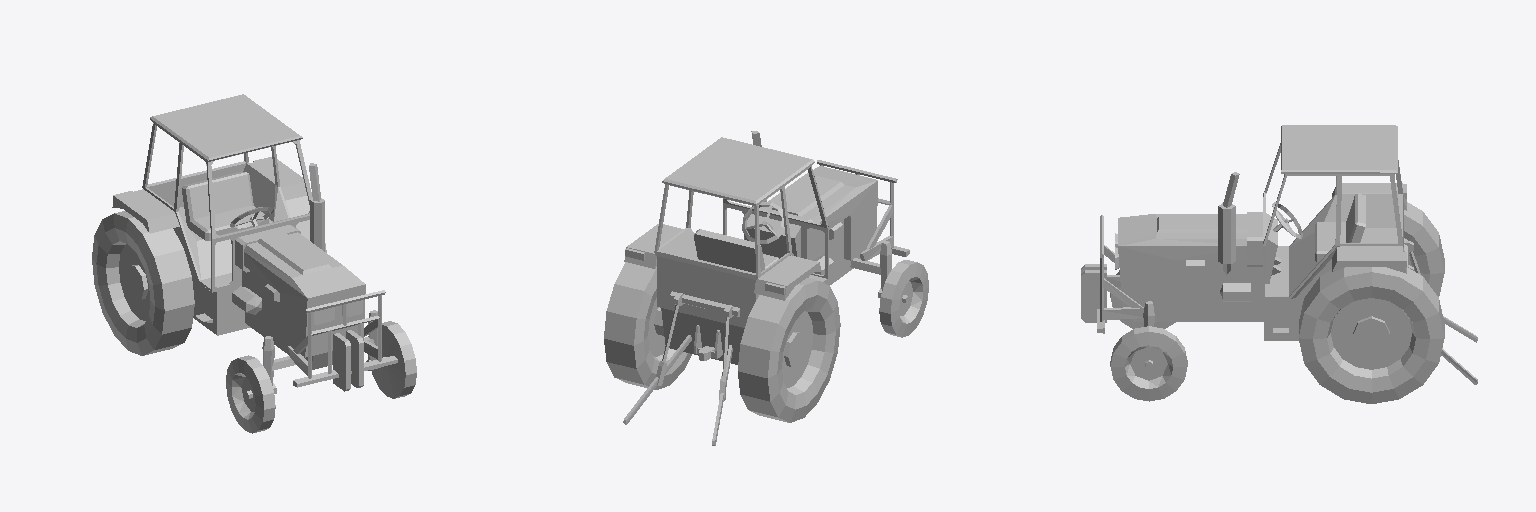
Rendered from Tractor.obj.
3 renders of one model, left to right at view 1: azimuth 30°, elevation 25°; view 2: azimuth 150°, elevation 25°; view 3: azimuth 270°, elevation 25°, orthographic.
Parts seen in each view (by area): view 1: tractor; view 2: tractor; view 3: tractor.
Part boxes in pixels (x1,y1,x2,y2): tractor: (92, 94, 416, 433); tractor: (604, 131, 928, 445); tractor: (1081, 125, 1477, 403).
Size of the model in its own units: 1483 by 1821 by 3020.